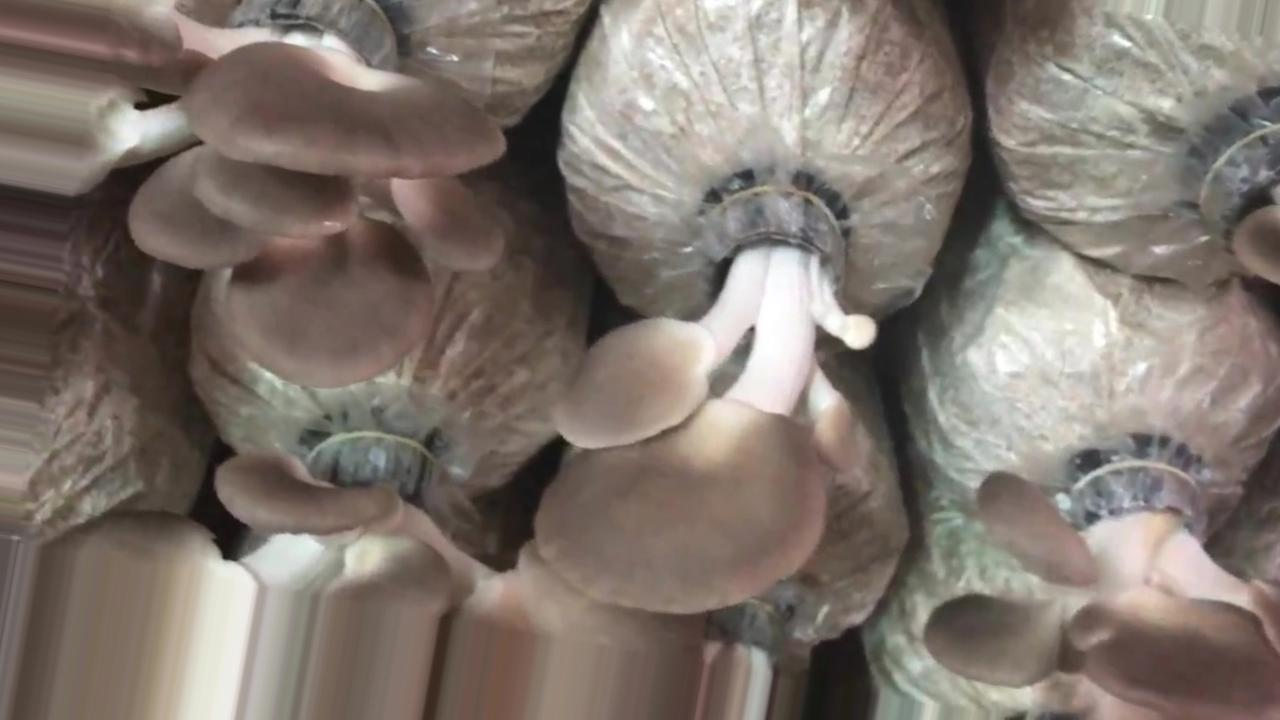nam: (4, 432, 768, 720), (124, 3, 513, 391), (539, 188, 884, 610), (924, 443, 1280, 717)
